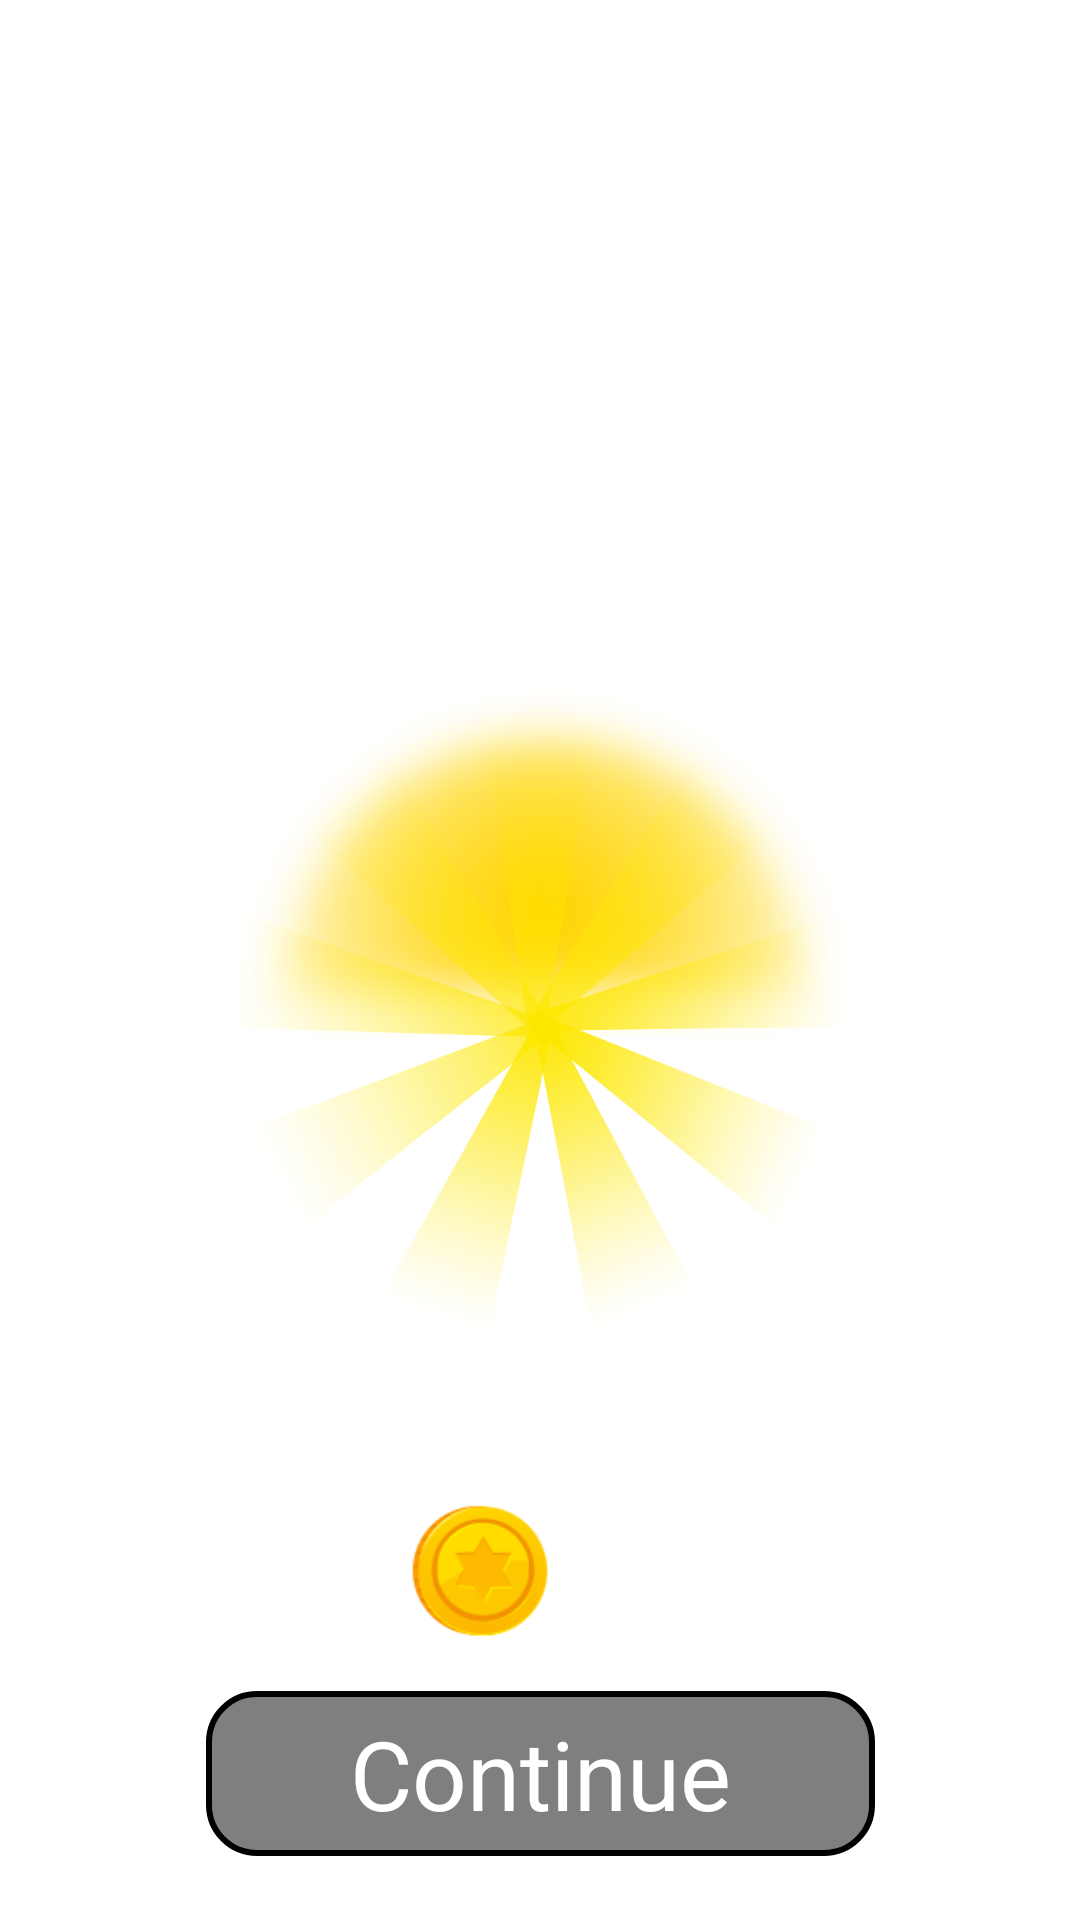

Named icons in this screenshot (1080px×1920px) and their centers, point (x, y):
coin: point (480, 1570)
